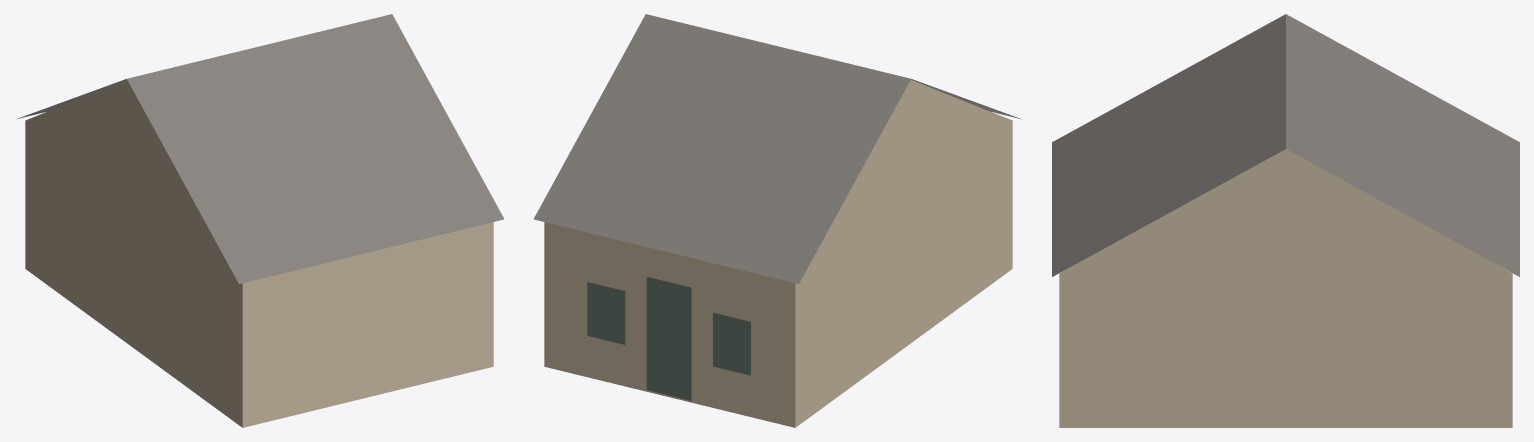
The model's file is recon_1835_north_a1_050__recommended_1835.glb.
3 renders of one model, left to right at view 1: azimuth 30°, elevation 25°; view 2: azimuth 150°, elevation 25°; view 3: azimuth 270°, elevation 25°, orthographic. The views are drawn at different scales.
Parts seen in each view (by area): view 1: recon_1835_north_a1_050__recommended_1835; view 2: recon_1835_north_a1_050__recommended_1835; view 3: recon_1835_north_a1_050__recommended_1835.
Part boxes in pixels (<box>): recon_1835_north_a1_050__recommended_1835: <box>16,14,503,427</box>; recon_1835_north_a1_050__recommended_1835: <box>534,14,1021,427</box>; recon_1835_north_a1_050__recommended_1835: <box>1052,14,1519,427</box>.
Size of the model in its own units: 5.16 by 5.04 by 7.55.
